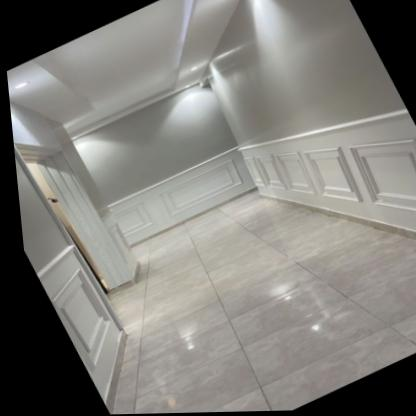Futec frame: (236, 138, 416, 224), (107, 155, 251, 241), (41, 257, 115, 382)
